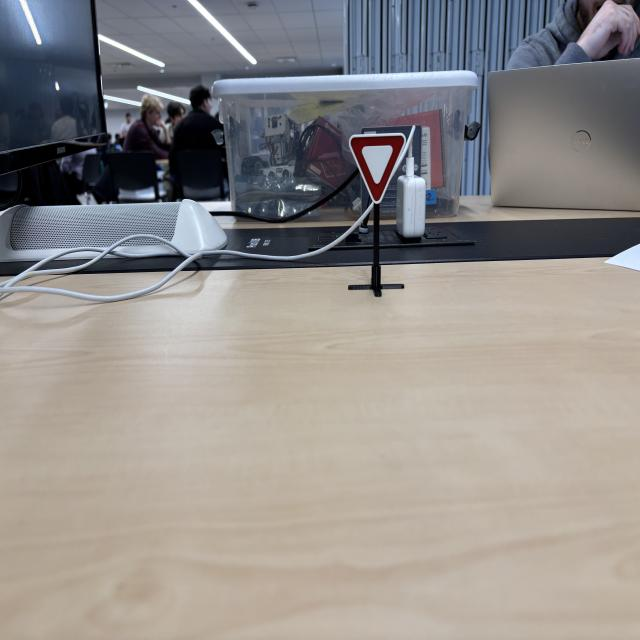sign_yield: (350, 133, 408, 204)
